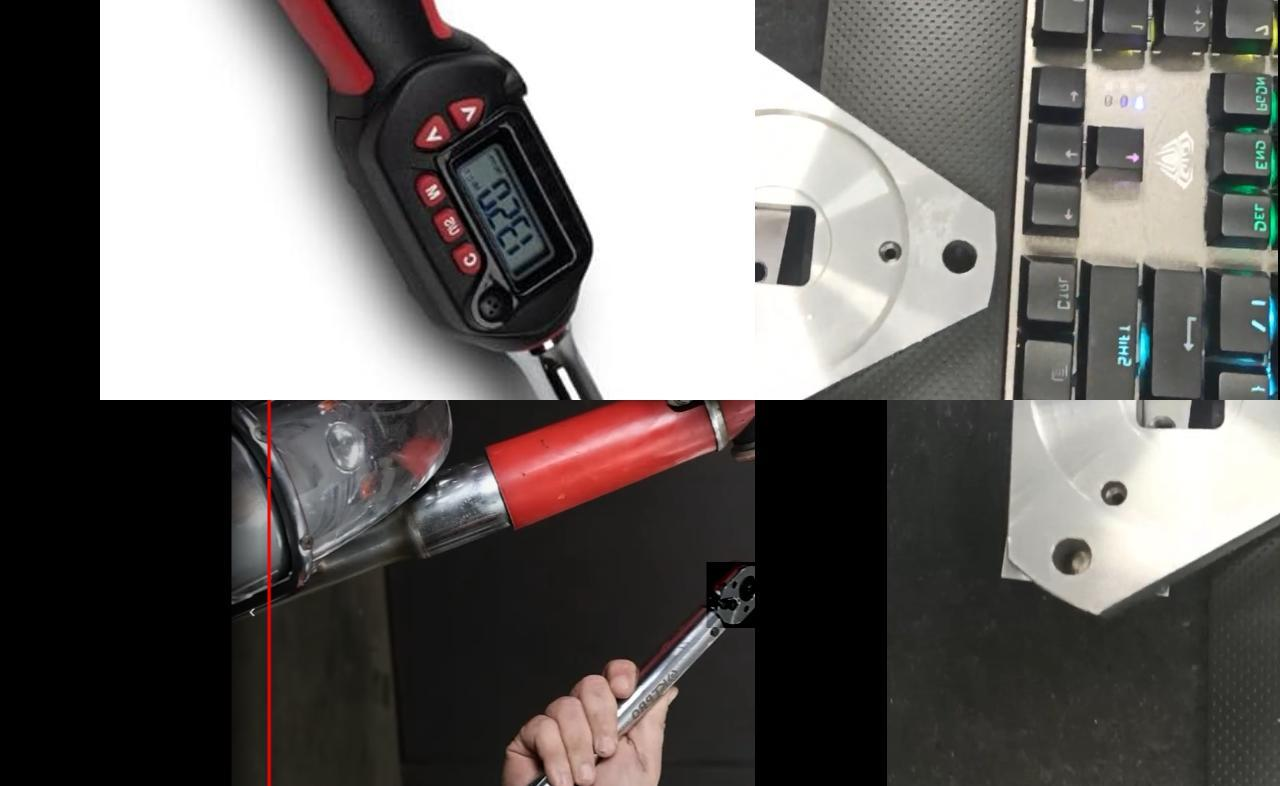Tool: (706, 560, 755, 626)
hole: (934, 221, 986, 286), (1048, 529, 1094, 585), (873, 228, 906, 272), (1098, 473, 1131, 514)
